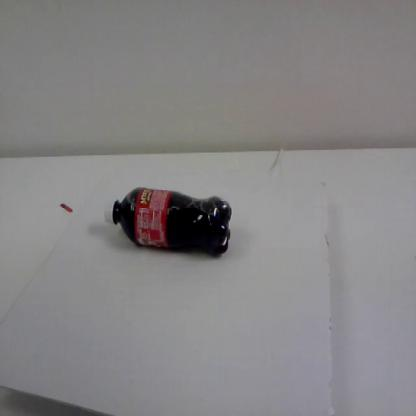bottle: (101, 183, 233, 260)
